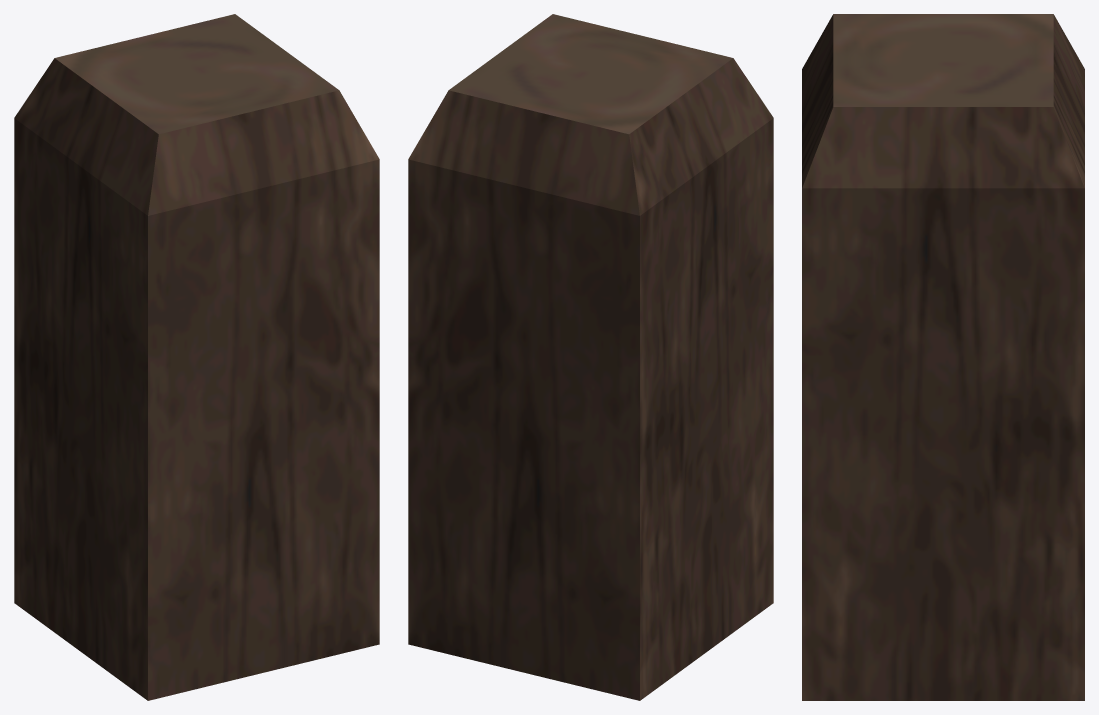
The model's file is Pilar.fbx.
The picture shows the model from 3 angles, left to right: view 1: azimuth 30°, elevation 25°; view 2: azimuth 150°, elevation 25°; view 3: azimuth 270°, elevation 25°; orthographic projection. The views are drawn at different scales.
Parts seen in each view (by area): view 1: Cube.044; view 2: Cube.044; view 3: Cube.044.
Boxes of the visible parts, x1,y1,x2,y2 form: Cube.044: (14,14,379,700); Cube.044: (408,14,773,700); Cube.044: (802,14,1084,700).
Bounding box in the file's own units: 0.5 × 0.5 × 1.13.
